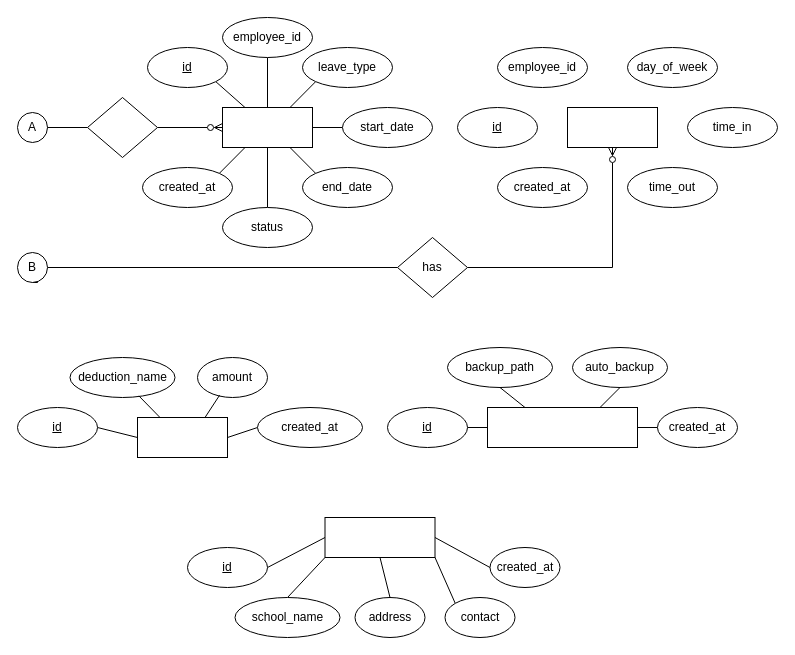
The diagram is 795 pixels wide and 655 high, and some of its shapes have lost their labels. Each missing label, with the box of its shape:
backup_restore_settings: (486, 406, 638, 448)
deductions: (136, 416, 228, 458)
leaves: (222, 106, 312, 148)
schedules: (566, 106, 658, 148)
school_settings: (324, 516, 435, 558)
takes: (86, 96, 158, 158)
